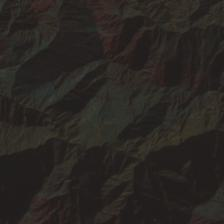landslides: (90, 119, 101, 133), (35, 193, 48, 201)
